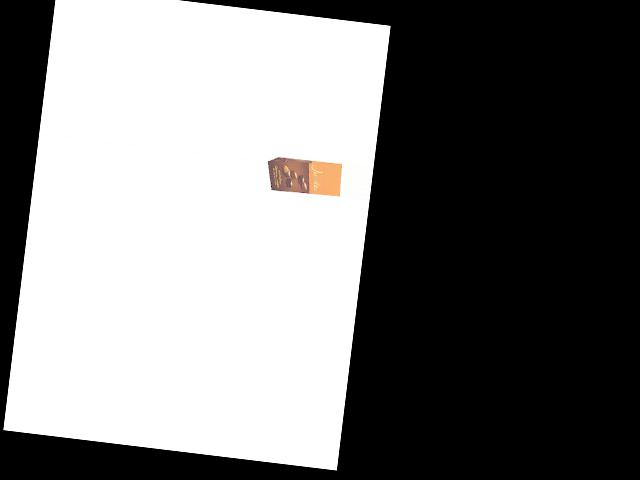chocolate: (264, 153, 343, 202)
